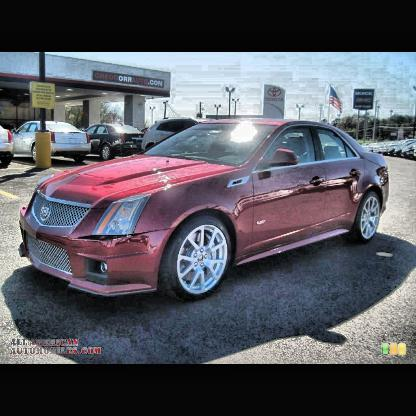Cadillac CTS-V Sedan 2012: (18, 120, 390, 298)
